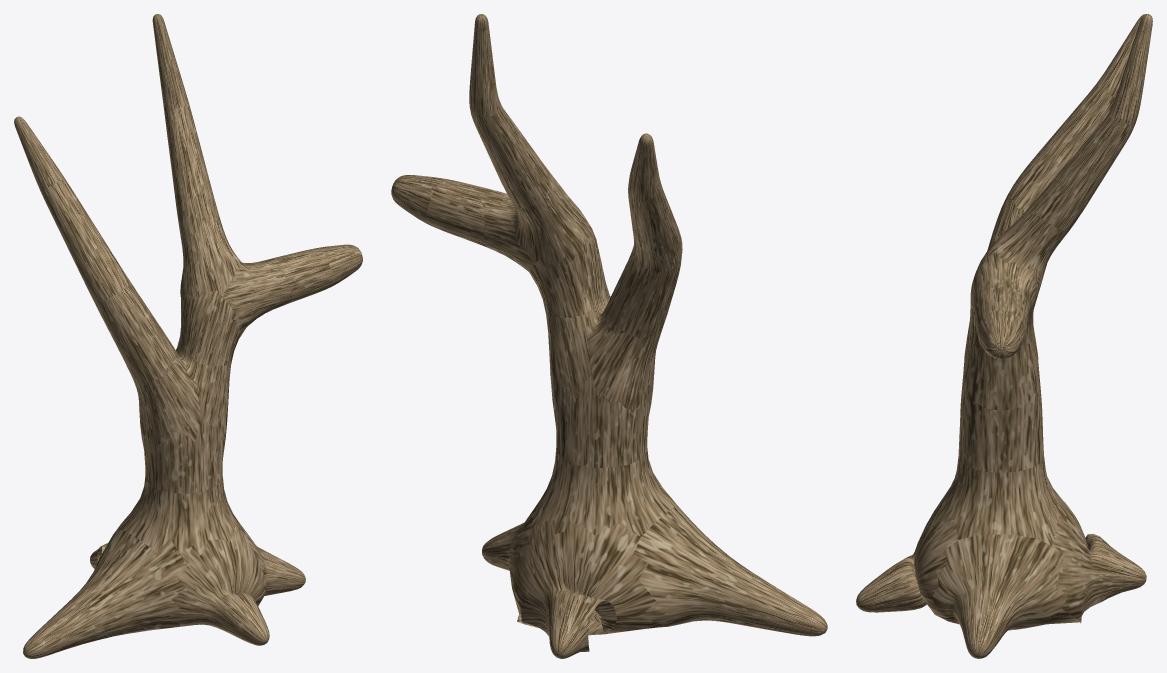
The model's file is turtle-prop-tall-tree.glb.
3 views of the same model, side by side, from view 1: azimuth 30°, elevation 25°; view 2: azimuth 150°, elevation 25°; view 3: azimuth 270°, elevation 25° (orthographic). The views are drawn at different scales.
Visible parts, largest first — view 1: tall-tree-trunk; view 2: tall-tree-trunk; view 3: tall-tree-trunk.
Boxes of the visible parts, left/top/right/bottom form: tall-tree-trunk: left=14, top=14, right=362, bottom=658; tall-tree-trunk: left=391, top=14, right=827, bottom=658; tall-tree-trunk: left=856, top=14, right=1152, bottom=658.
Bounding box in the file's own units: 0.3764 × 0.5489 × 0.2418.
Materials: 1 (1 with a texture image).
